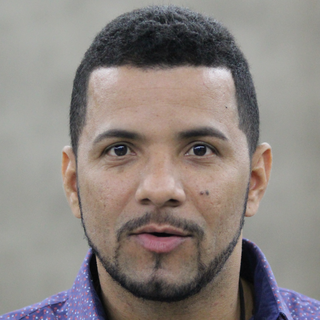eye: (178, 136, 225, 164), (96, 138, 142, 164)
